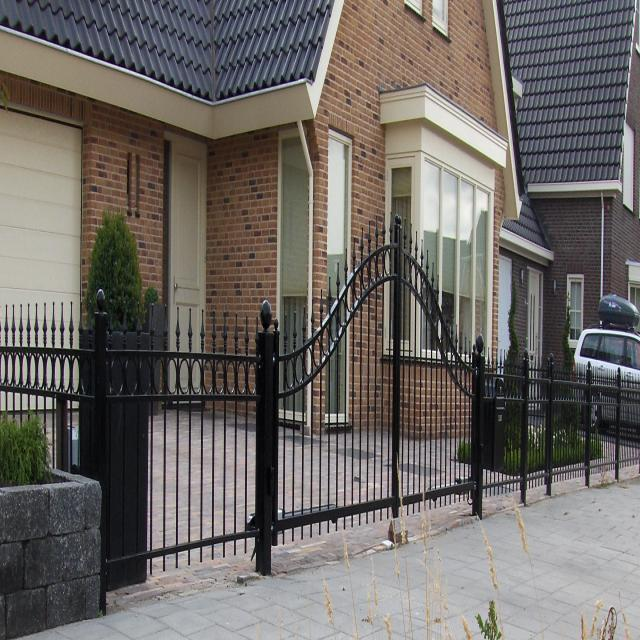fence line: (25, 291, 317, 640), (277, 224, 511, 581), (457, 352, 640, 516)
